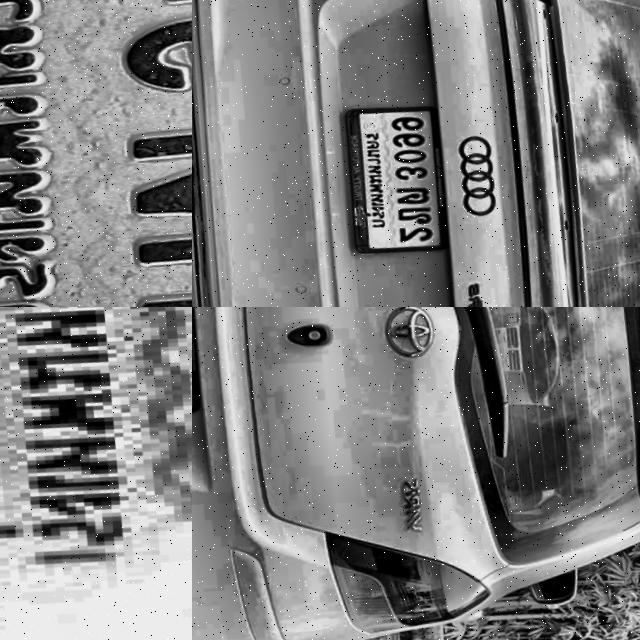license-plate: (0, 307, 192, 640), (0, 0, 192, 307), (338, 86, 468, 258)
